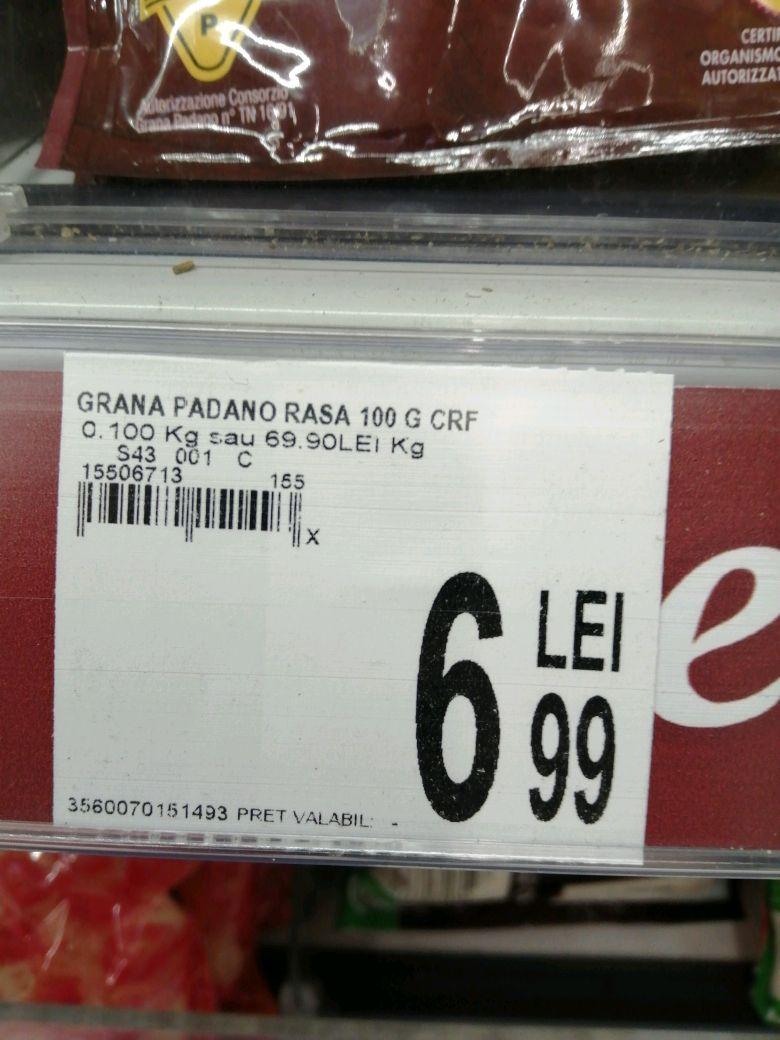price_bani: (518, 689, 623, 828)
price_lei: (404, 562, 513, 830)
price_tag: (41, 339, 686, 878)
product_id: (56, 789, 233, 834)
product_name: (63, 381, 489, 438)
